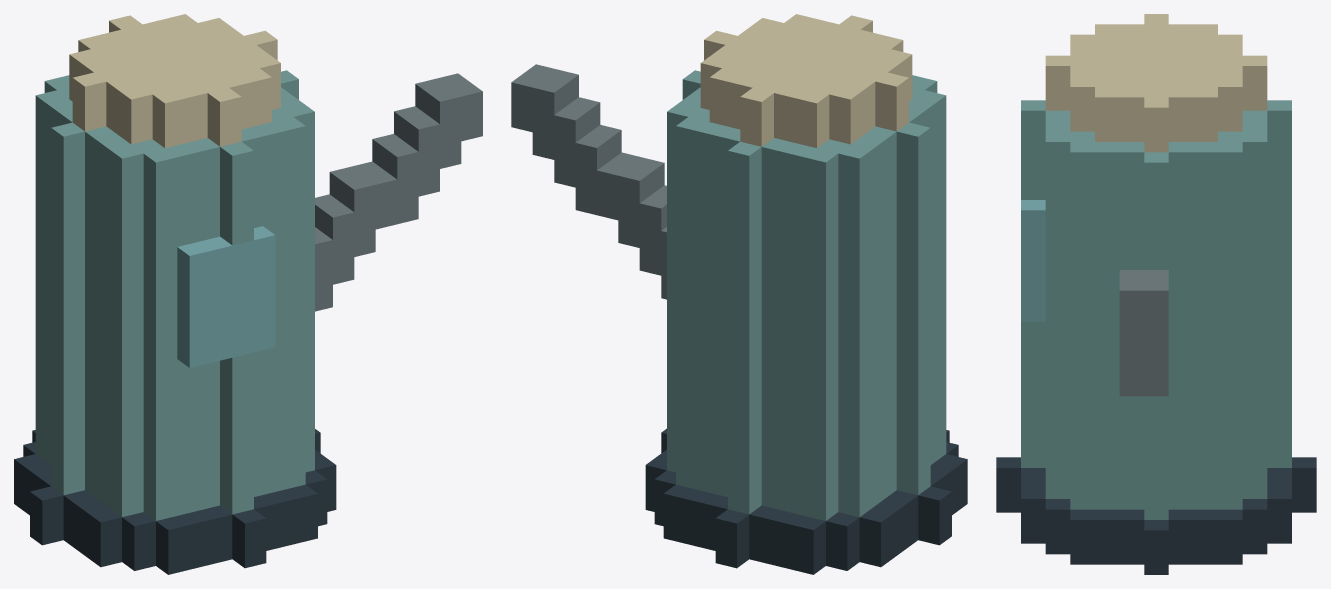
Rendered from health-15.glb.
3 renders of one model, left to right at view 1: azimuth 30°, elevation 25°; view 2: azimuth 150°, elevation 25°; view 3: azimuth 270°, elevation 25°, orthographic.
Visible parts, largest first — view 1: Sanitizer pump; view 2: Sanitizer pump; view 3: Sanitizer pump.
Boxes of the visible parts, bbox=[...] form: Sanitizer pump: bbox=[14, 14, 482, 574]; Sanitizer pump: bbox=[511, 14, 967, 574]; Sanitizer pump: bbox=[996, 14, 1316, 574].
Bounding box in the file's own units: 1.6 × 1.6 × 1.04.
